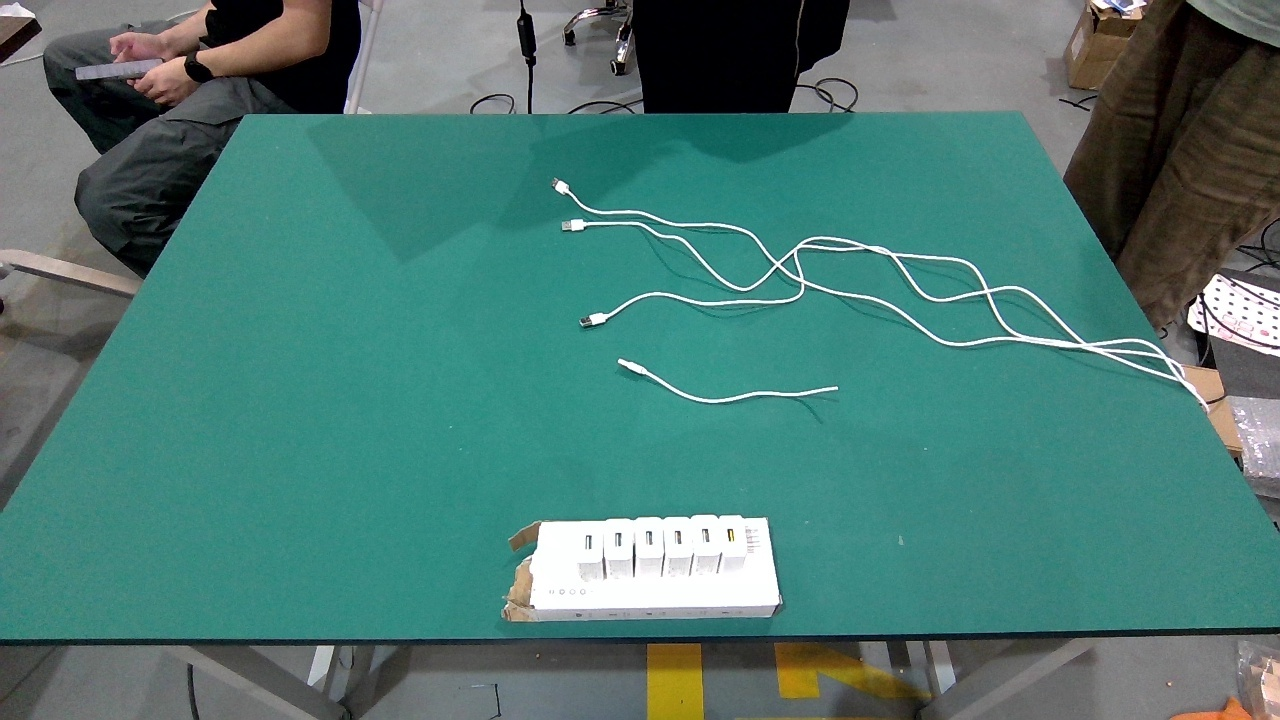usb_a_plug: (615, 354, 654, 379), (545, 173, 577, 201), (577, 309, 617, 329), (561, 218, 594, 233)
